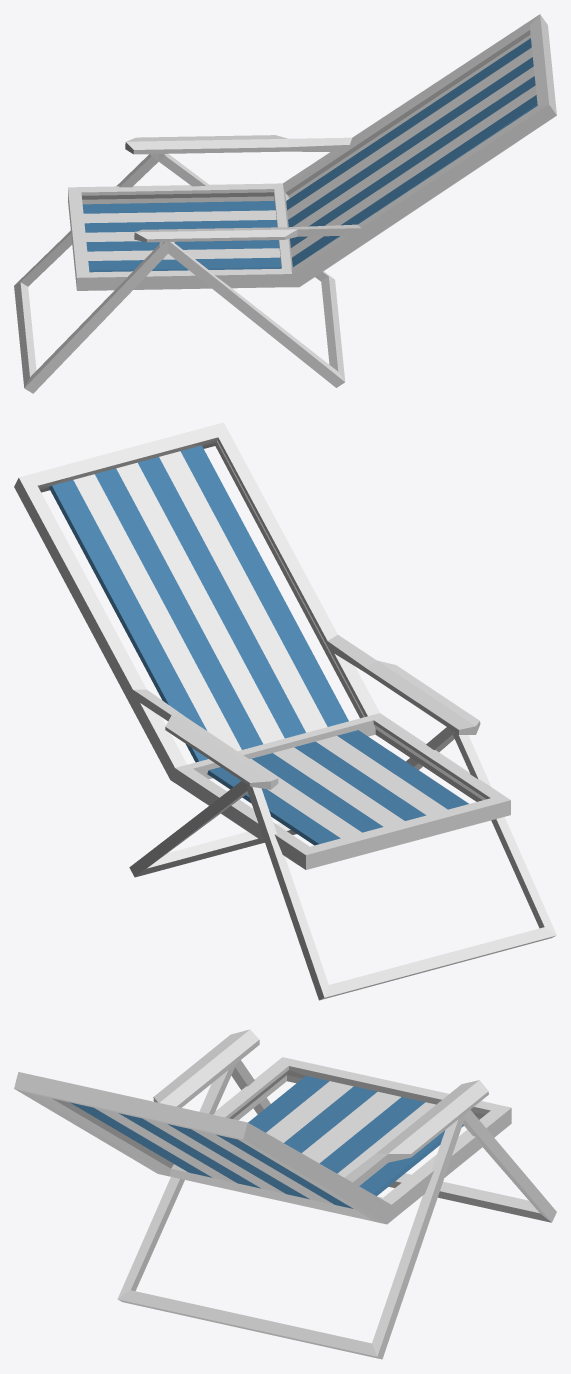
File: Outside Chair.fbx
3 views of the same model, one above another, from view 1: azimuth 30°, elevation 25°; view 2: azimuth 150°, elevation 25°; view 3: azimuth 270°, elevation 25° (orthographic). The views are drawn at different scales.
Visible parts, largest first — view 1: Outside Chair; view 2: Outside Chair; view 3: Outside Chair.
Part boxes in pixels (bbox=[...]): Outside Chair: bbox=[14, 14, 556, 393]; Outside Chair: bbox=[14, 422, 556, 1000]; Outside Chair: bbox=[14, 1029, 556, 1359].
Size of the model in its own units: 341 by 265 by 178.
